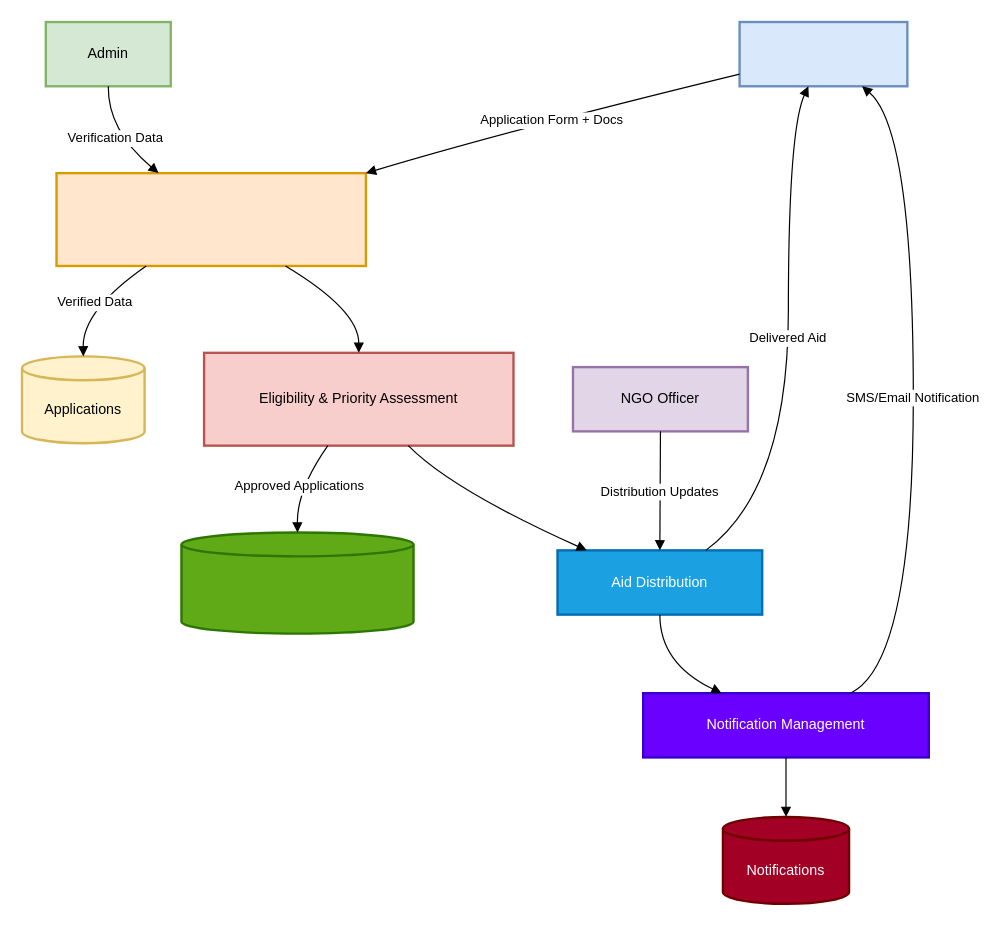
Some shapes in this 1001 by 925 pixel diagram are drawn without their labels. The shapes that lost their labels are listed below. From the top down, each one's centre as x and y in pixels, then its label:
(x=823, y=53): Beneficiary
(x=211, y=219): Application Submission & Verification
(x=297, y=582): Transactions/Aid Records
